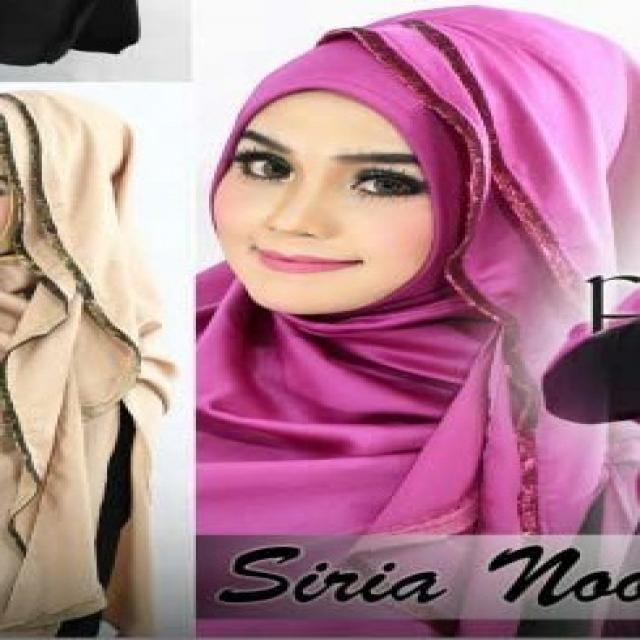head: (193, 6, 640, 319)
